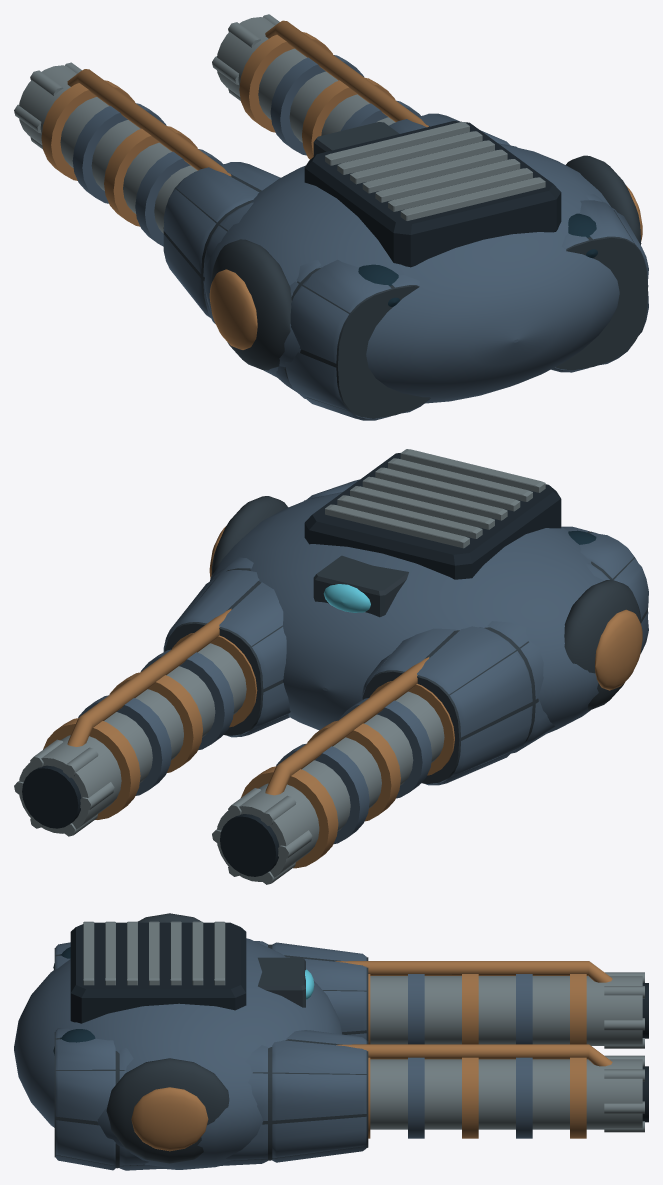
File: battery.glb
The picture shows the model from 3 angles, top to bottom: view 1: azimuth 30°, elevation 25°; view 2: azimuth 150°, elevation 25°; view 3: azimuth 270°, elevation 25°; orthographic projection. The views are drawn at different scales.
Visible parts, largest first — view 1: battery; view 2: battery; view 3: battery.
Boxes of the visible parts, x1,y1,x2,y2 form: battery: [14, 14, 648, 420]; battery: [14, 449, 648, 884]; battery: [14, 913, 648, 1170].
Bounding box in the file's own units: 3.9 × 1.99 × 6.11.
